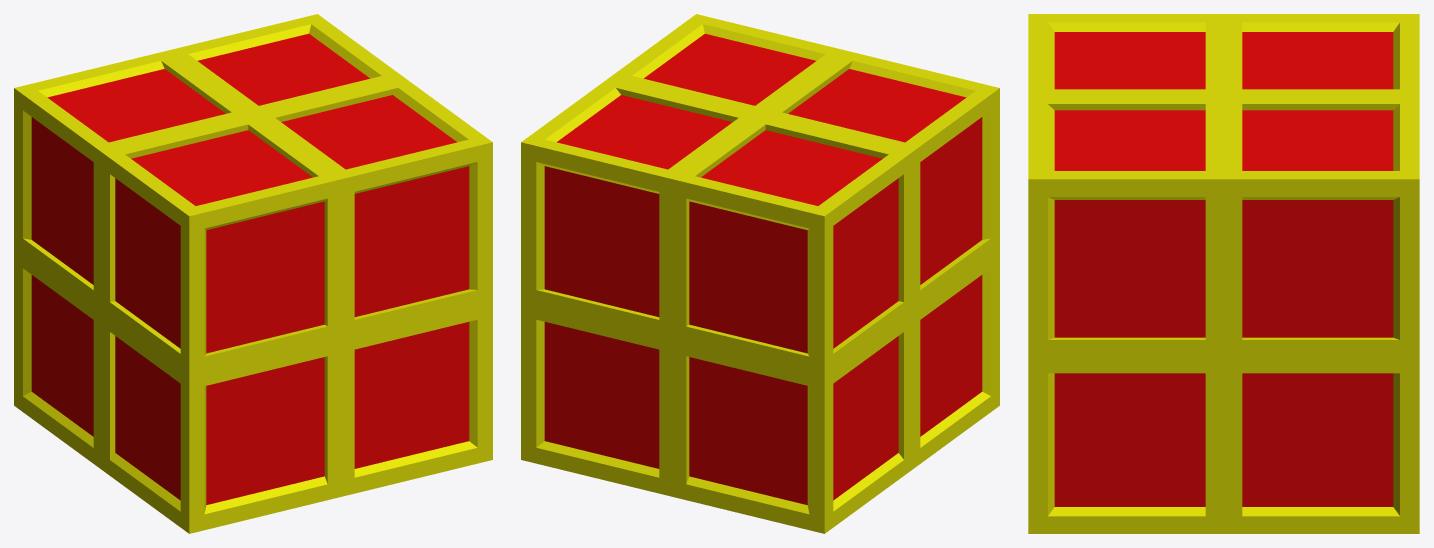
The model's file is CrateA_SM.fbx.
3 renders of one model, left to right at view 1: azimuth 30°, elevation 25°; view 2: azimuth 150°, elevation 25°; view 3: azimuth 270°, elevation 25°, orthographic. The views are drawn at different scales.
Visible parts, largest first — view 1: pCube21; view 2: pCube21; view 3: pCube21.
Part boxes in pixels (x1,y1,x2,y2): pCube21: (14, 14, 492, 533); pCube21: (521, 14, 999, 533); pCube21: (1028, 14, 1419, 533).
Bounding box in the file's own units: 160 × 160 × 160.
